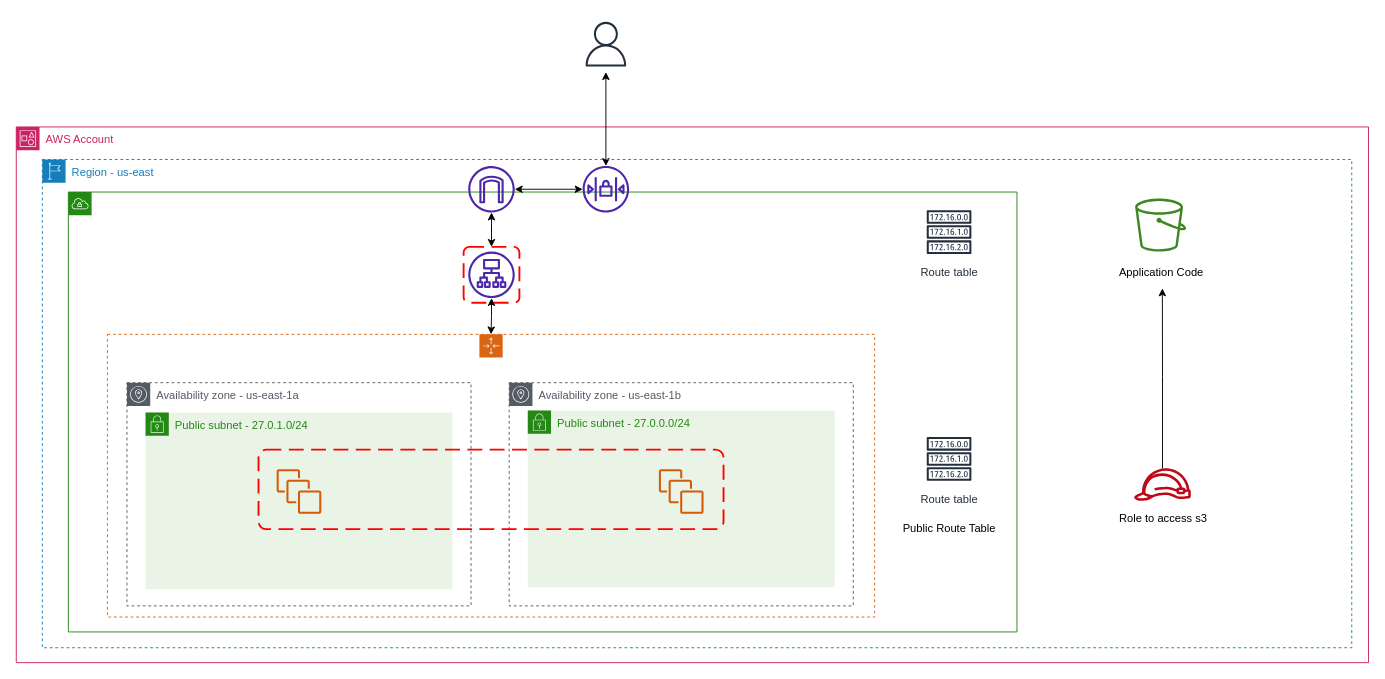
Some shapes in this 1385 by 679 pixel diagram are drawn without their labels. The shapes that lost their labels are listed below. From the top down, each one's box as (x1, y1, x2, y2) in pixels, then its label:
(577, 15, 634, 72): User
(67, 191, 1017, 632): VPC - 27.0.0.0/16
(106, 333, 875, 617): Auto Scaling group
